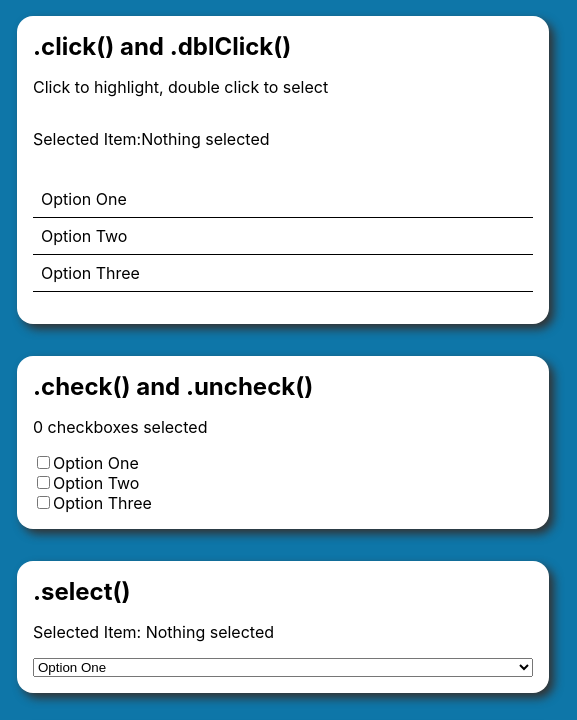
Test case: Basic page interactions › Should set the header text to the item's name when double clicked
The image size is (577, 720).
Expected: the text with test id "box-1-selected-name" reads "Nothing selected", 141,129 -> 269,149
Double-click the list item "Option One" at {"x": 283, "y": 200}, box 33,181 -> 533,218
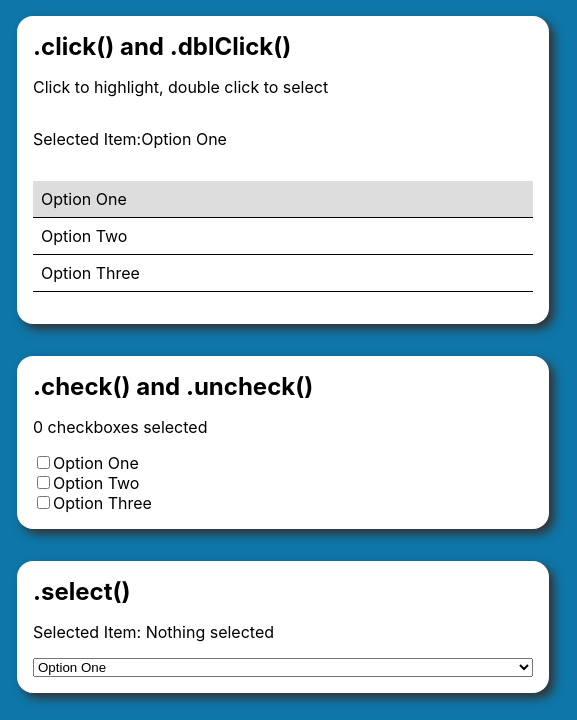
Expected: the text with test id "box-1-selected-name" reads "Option One", 141,129 -> 227,149
Double-click the list item "Option Two" at {"x": 283, "y": 237}, box 33,218 -> 533,255
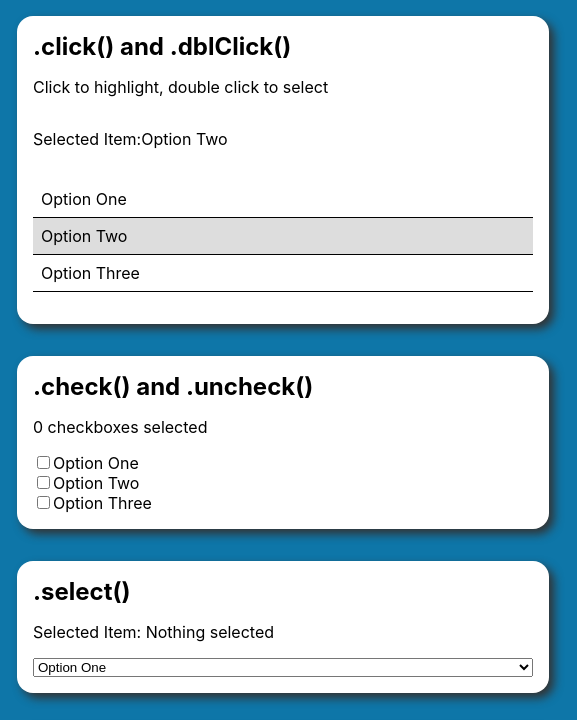
Expected: the text with test id "box-1-selected-name" reads "Option Two", 141,129 -> 227,149
Double-click the list item "Option Three" at {"x": 283, "y": 274}, box 33,255 -> 533,292
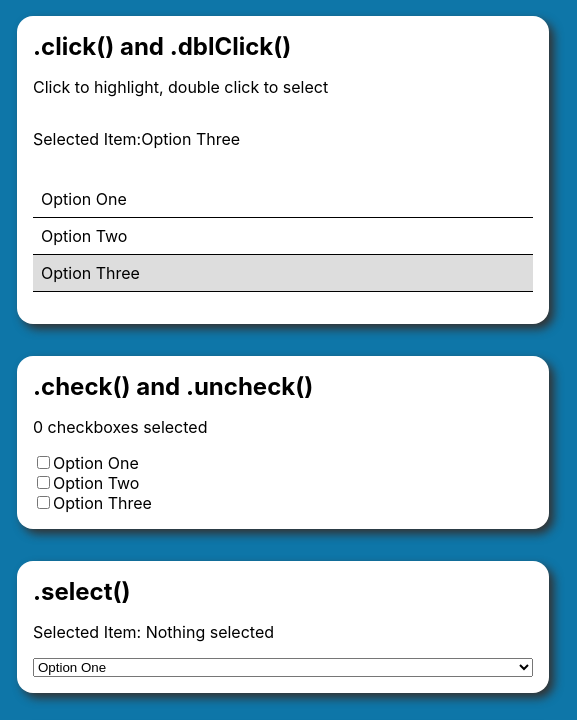
Expected: the text with test id "box-1-selected-name" reads "Option Three", 141,129 -> 240,149
